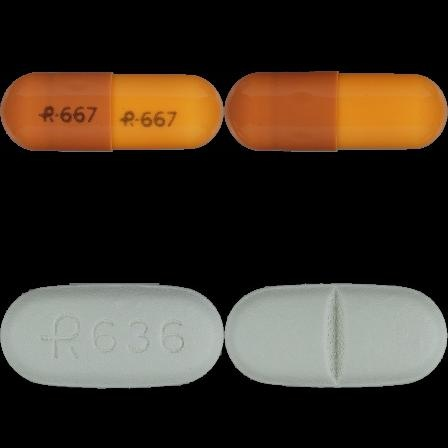76237-166: (0, 0, 224, 224)
